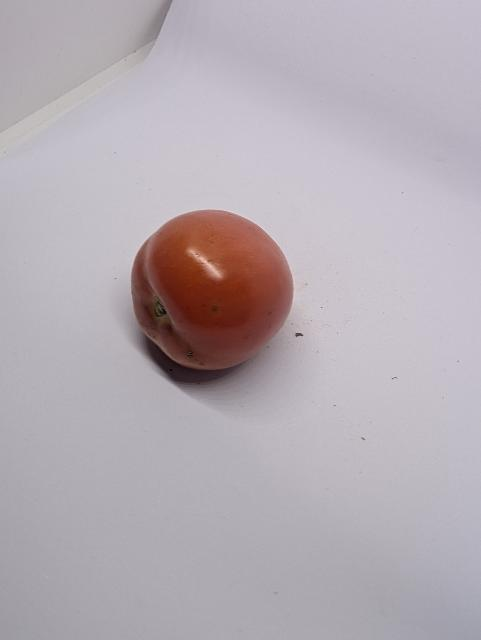red: (128, 206, 294, 391)
